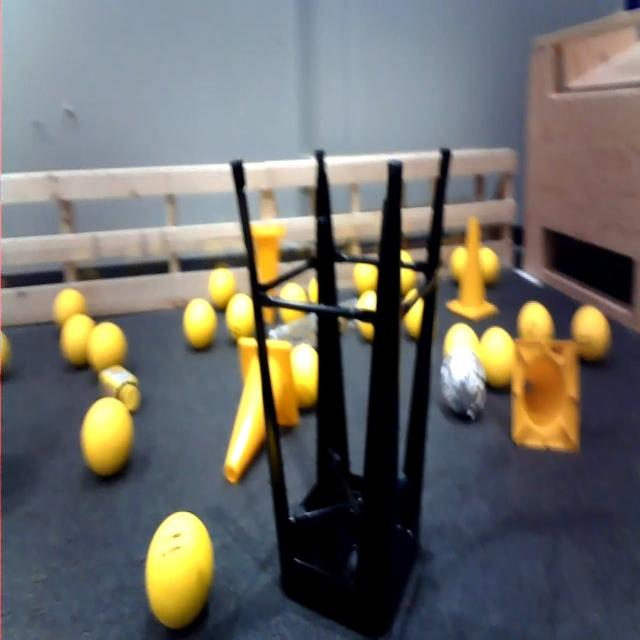fuel: (140, 504, 221, 632), (74, 388, 141, 483), (566, 294, 615, 368), (82, 316, 138, 378), (477, 323, 518, 396), (288, 338, 324, 419), (178, 293, 223, 352), (435, 313, 481, 367), (221, 288, 263, 344), (515, 294, 562, 344), (57, 304, 96, 364), (46, 278, 87, 329), (209, 258, 246, 313), (348, 249, 384, 298), (277, 271, 309, 326), (402, 285, 429, 339), (354, 287, 380, 340), (476, 242, 504, 288), (397, 239, 418, 295), (450, 240, 473, 288), (0, 319, 16, 385), (303, 266, 320, 312)
